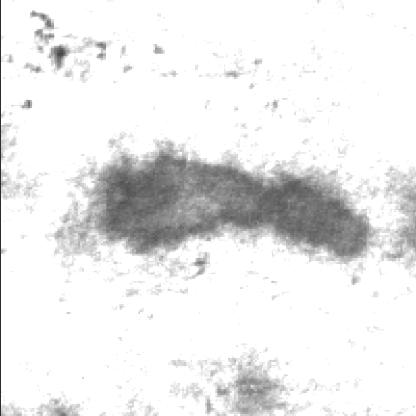patches: (83, 146, 366, 258)
